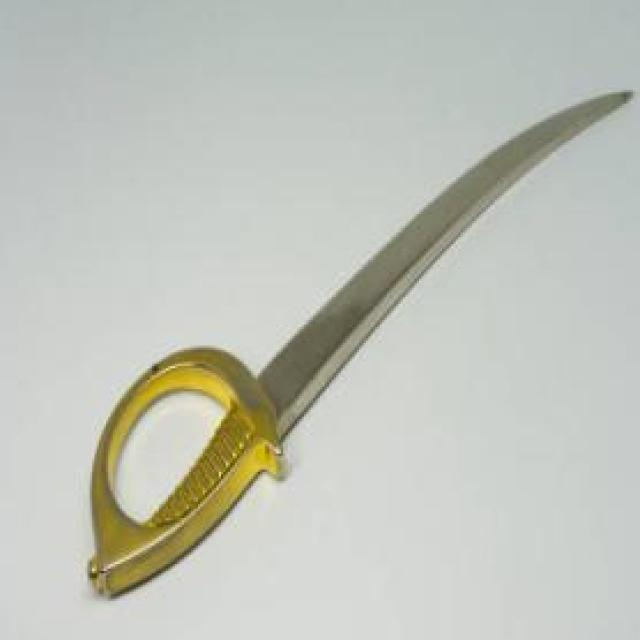knife: (82, 85, 635, 600)
